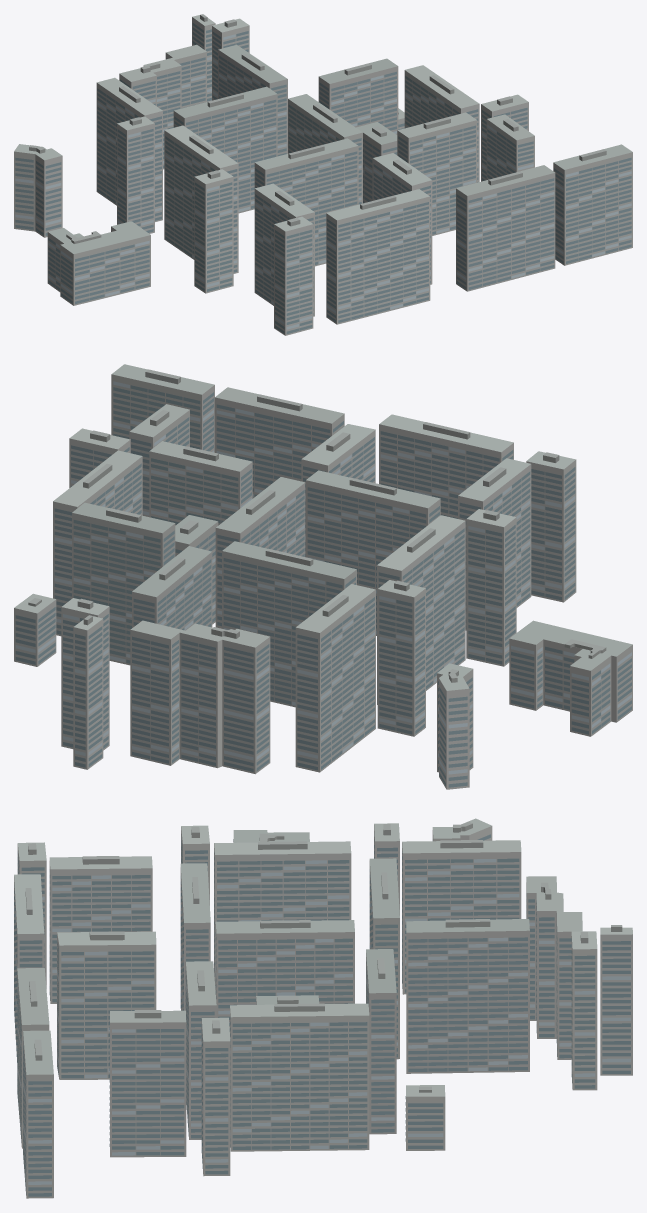
Rendered from apt-a13880806.glb.
The picture shows the model from 3 angles, top to bottom: view 1: azimuth 30°, elevation 25°; view 2: azimuth 150°, elevation 25°; view 3: azimuth 270°, elevation 25°; orthographic projection. The views are drawn at different scales.
Parts seen in each view (by area): view 1: apt-a13880806; view 2: apt-a13880806; view 3: apt-a13880806.
Boxes of the visible parts, left/top/right/bottom form: apt-a13880806: left=14, top=14, right=632, bottom=335; apt-a13880806: left=14, top=364, right=632, bottom=789; apt-a13880806: left=14, top=818, right=632, bottom=1198.
Size of the model in its own units: 296 by 67 by 257.
